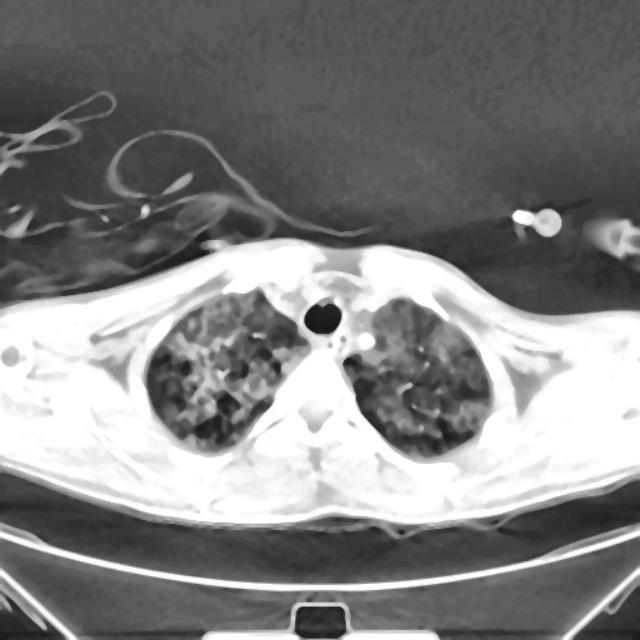covid: (0, 235, 639, 536)
